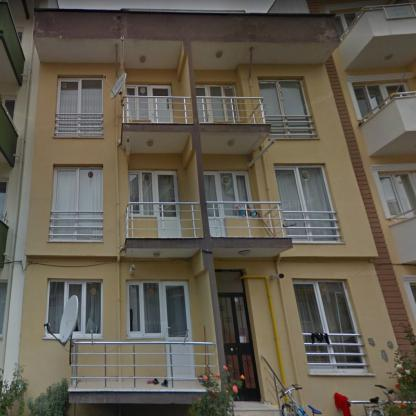door: (216, 270, 258, 398), (165, 281, 193, 377), (156, 171, 180, 236), (152, 85, 172, 122)
window: (293, 282, 365, 367), (276, 167, 338, 240), (51, 167, 102, 241), (47, 279, 101, 337), (258, 81, 313, 137), (57, 80, 102, 136), (353, 84, 406, 121), (126, 282, 162, 334), (195, 86, 238, 122), (380, 173, 416, 215), (217, 174, 247, 216), (128, 172, 156, 214), (127, 86, 149, 121), (336, 12, 357, 37)
